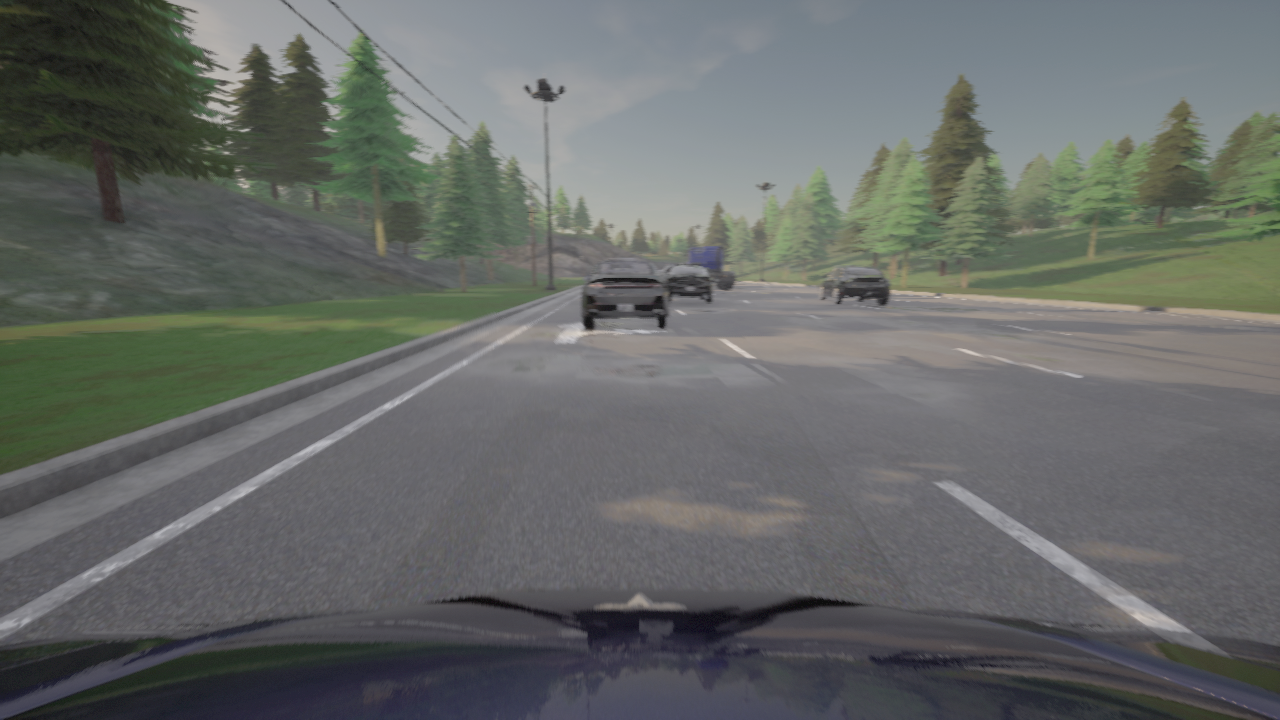cyclist: (0, 588, 1279, 719), (581, 260, 668, 328), (819, 265, 889, 304), (683, 245, 735, 288), (663, 263, 712, 302), (658, 263, 675, 283), (605, 257, 635, 260), (656, 269, 661, 273)
